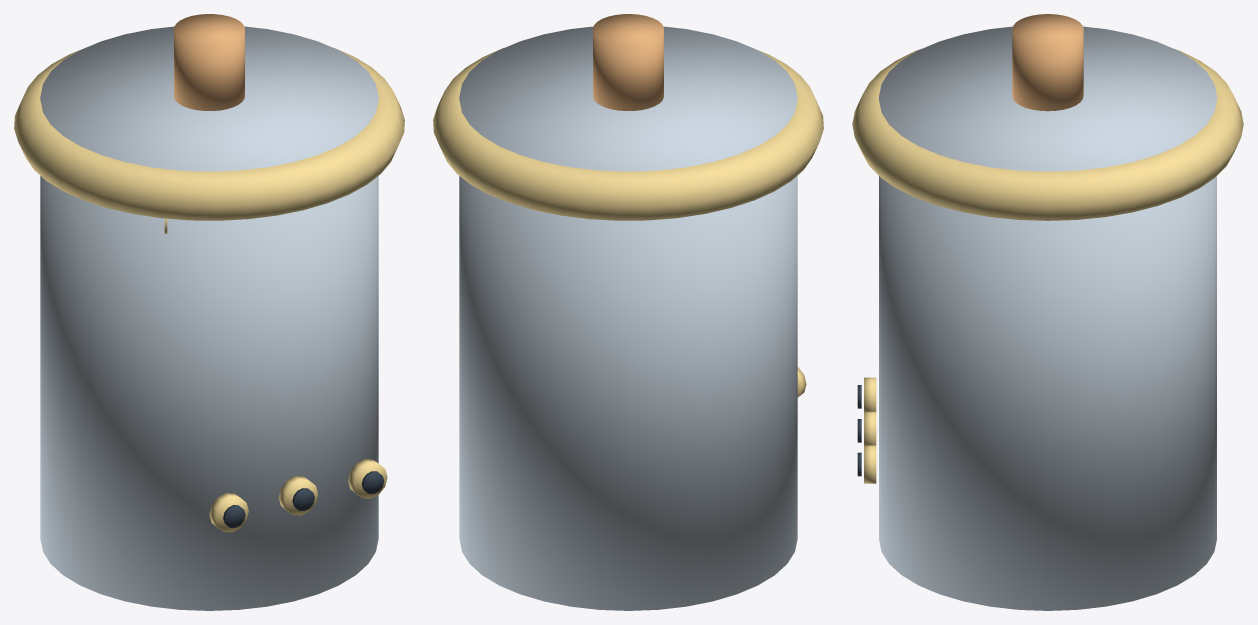
Rendered from 65_L93_SampleGasCaptureTrap.glb.
The picture shows the model from 3 angles, left to right: view 1: azimuth 30°, elevation 25°; view 2: azimuth 150°, elevation 25°; view 3: azimuth 270°, elevation 25°; orthographic projection.
Visible parts, largest first — view 1: L92_SampleGasCaptureTrap_Part_0000, L92_SampleGasCaptureTrap_Part_0001, L92_SampleGasCaptureTrap_Part_0002, L92_SampleGasCaptureTrap_Part_0006, L92_SampleGasCaptureTrap_Part_0008, L92_SampleGasCaptureTrap_Part_0004; view 2: L92_SampleGasCaptureTrap_Part_0000, L92_SampleGasCaptureTrap_Part_0001, L92_SampleGasCaptureTrap_Part_0002; view 3: L92_SampleGasCaptureTrap_Part_0000, L92_SampleGasCaptureTrap_Part_0001, L92_SampleGasCaptureTrap_Part_0002.
Part boxes in pixels (bbox=[...]): L92_SampleGasCaptureTrap_Part_0000: bbox=[40, 26, 378, 610]; L92_SampleGasCaptureTrap_Part_0001: bbox=[14, 48, 404, 220]; L92_SampleGasCaptureTrap_Part_0002: bbox=[174, 14, 244, 110]; L92_SampleGasCaptureTrap_Part_0006: bbox=[278, 476, 317, 515]; L92_SampleGasCaptureTrap_Part_0008: bbox=[348, 459, 387, 498]; L92_SampleGasCaptureTrap_Part_0004: bbox=[209, 493, 248, 532]; L92_SampleGasCaptureTrap_Part_0000: bbox=[459, 26, 797, 610]; L92_SampleGasCaptureTrap_Part_0001: bbox=[433, 48, 823, 220]; L92_SampleGasCaptureTrap_Part_0002: bbox=[593, 14, 663, 110]; L92_SampleGasCaptureTrap_Part_0000: bbox=[879, 26, 1216, 610]; L92_SampleGasCaptureTrap_Part_0001: bbox=[852, 49, 1243, 220]; L92_SampleGasCaptureTrap_Part_0002: bbox=[1012, 14, 1083, 111].
Bounding box in the file's own units: 1.32 × 1.9 × 1.32.
